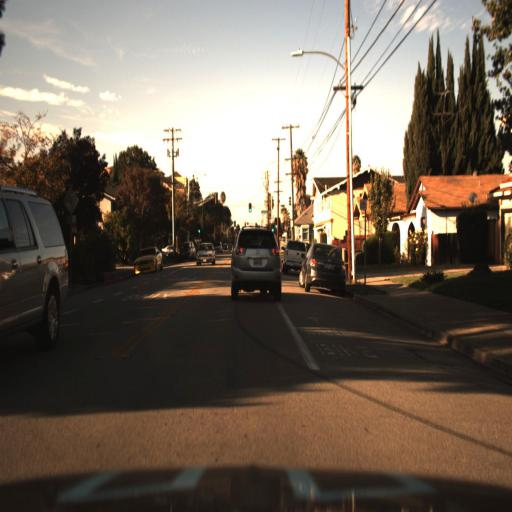car: (0, 186, 70, 362), (222, 218, 286, 310), (296, 238, 350, 293), (127, 230, 167, 278), (276, 236, 305, 284), (193, 236, 218, 272)
trafficLight: (244, 200, 254, 216), (194, 224, 200, 240), (270, 224, 276, 240), (274, 222, 279, 235)
trafficLight-Green: (273, 219, 280, 234), (194, 223, 202, 236), (247, 200, 253, 216)
